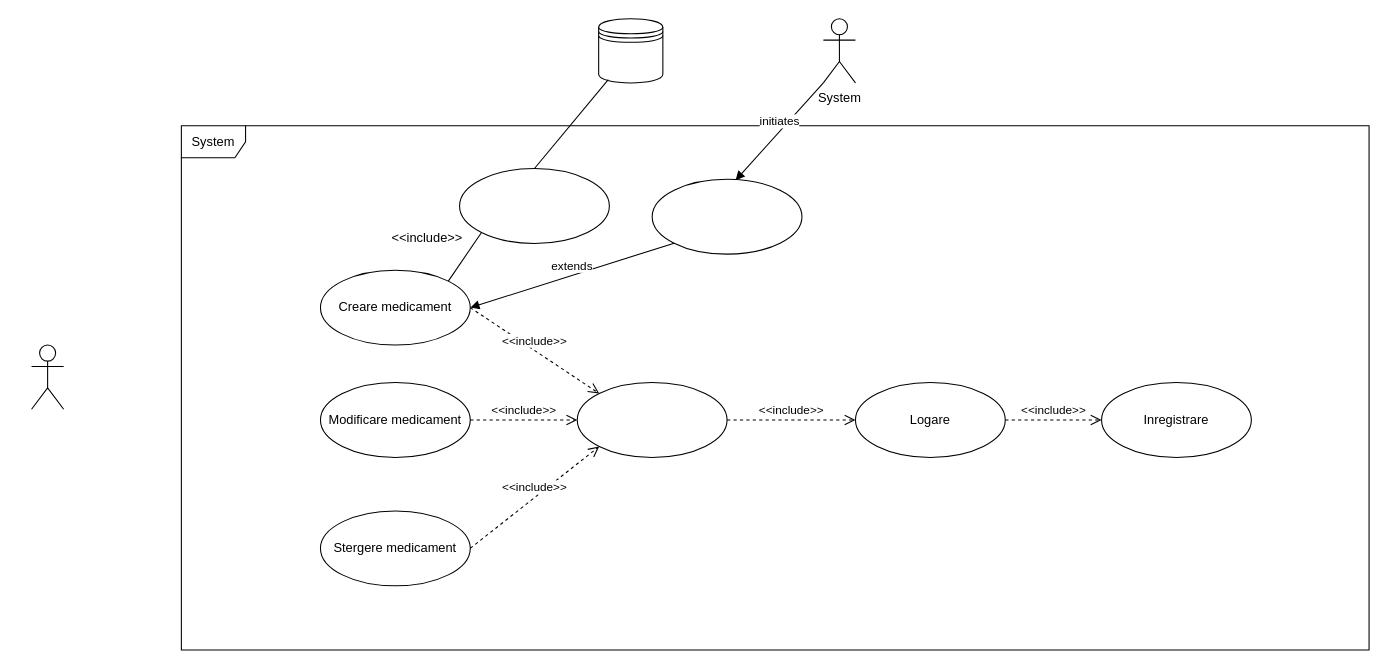
Image size: 1388x669. Some labels were removed from this diagram. Here are the shapes that lost their labels. From the top down, the centre of each, then its label:
At (533,205): "Preluare medicamente comune".
At (726,216): "Notificare administrare medicament".
At (47,376): "Utilizator".
At (651,419): "Vizualizare meniu principal".
